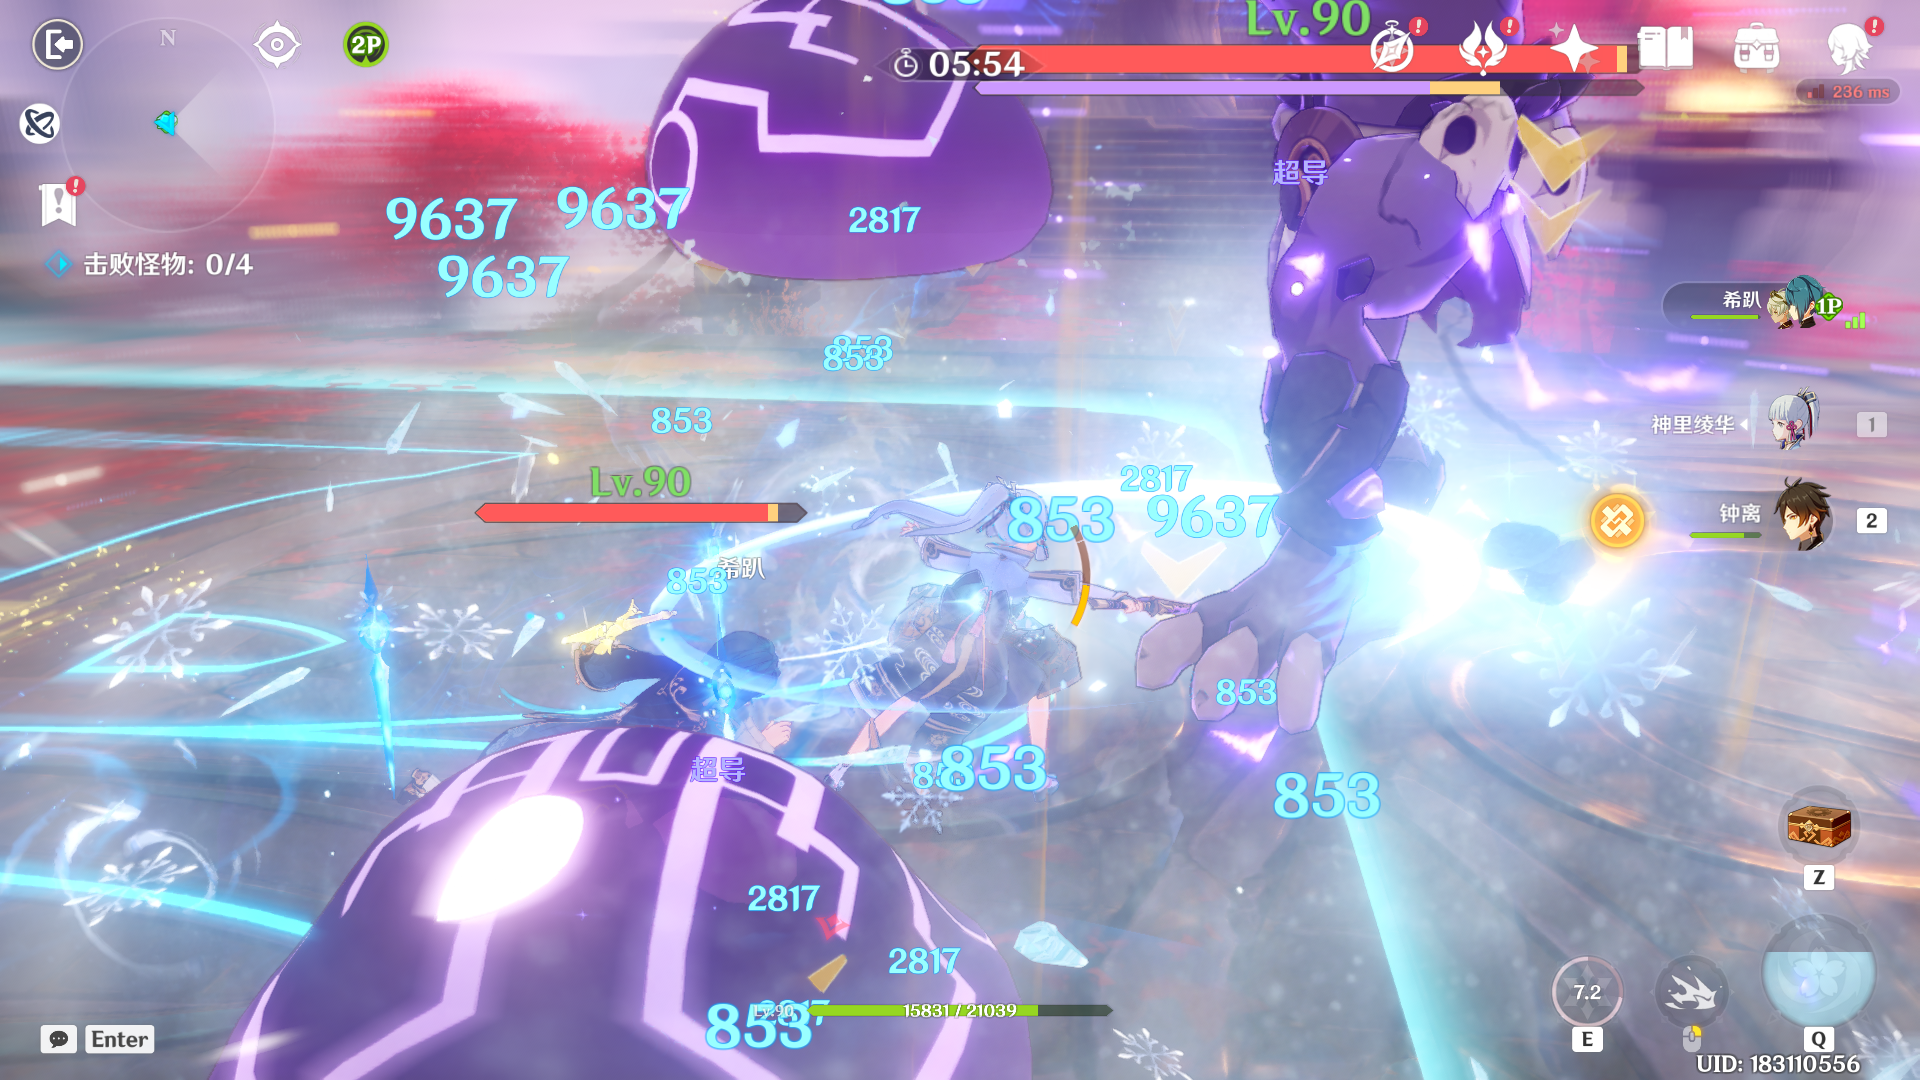character: (825, 454, 1120, 820)
slime: (175, 698, 1072, 1080), (568, 1, 1075, 345)
